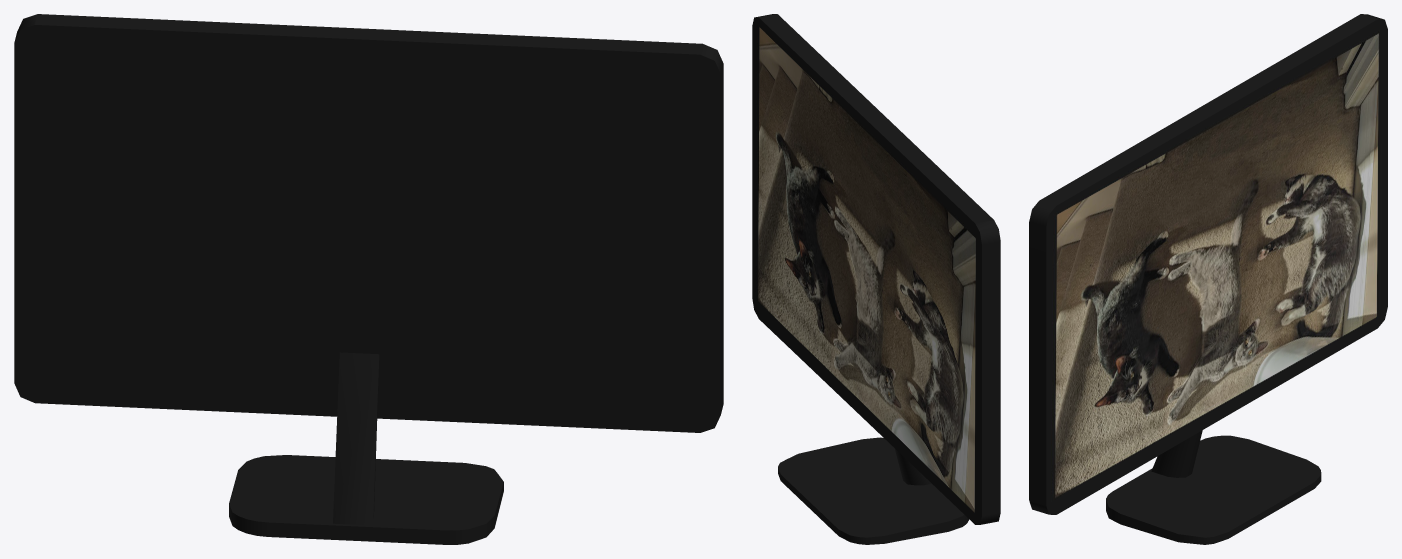
File: Monitor2.fbx
3 views of the same model, side by side, from view 1: azimuth 30°, elevation 25°; view 2: azimuth 150°, elevation 25°; view 3: azimuth 270°, elevation 25° (orthographic). The views are drawn at different scales.
Parts seen in each view (by area): view 1: Monitor_3; view 2: Monitor_3; view 3: Monitor_3.
Part boxes in pixels (x1,y1,x2,y2): Monitor_3: (14,14,723,544); Monitor_3: (752,14,1000,544); Monitor_3: (1029,14,1387,544).
Bounding box in the file's own units: 1.41 × 1.25 × 1.05.
1 material, 1 textured.
